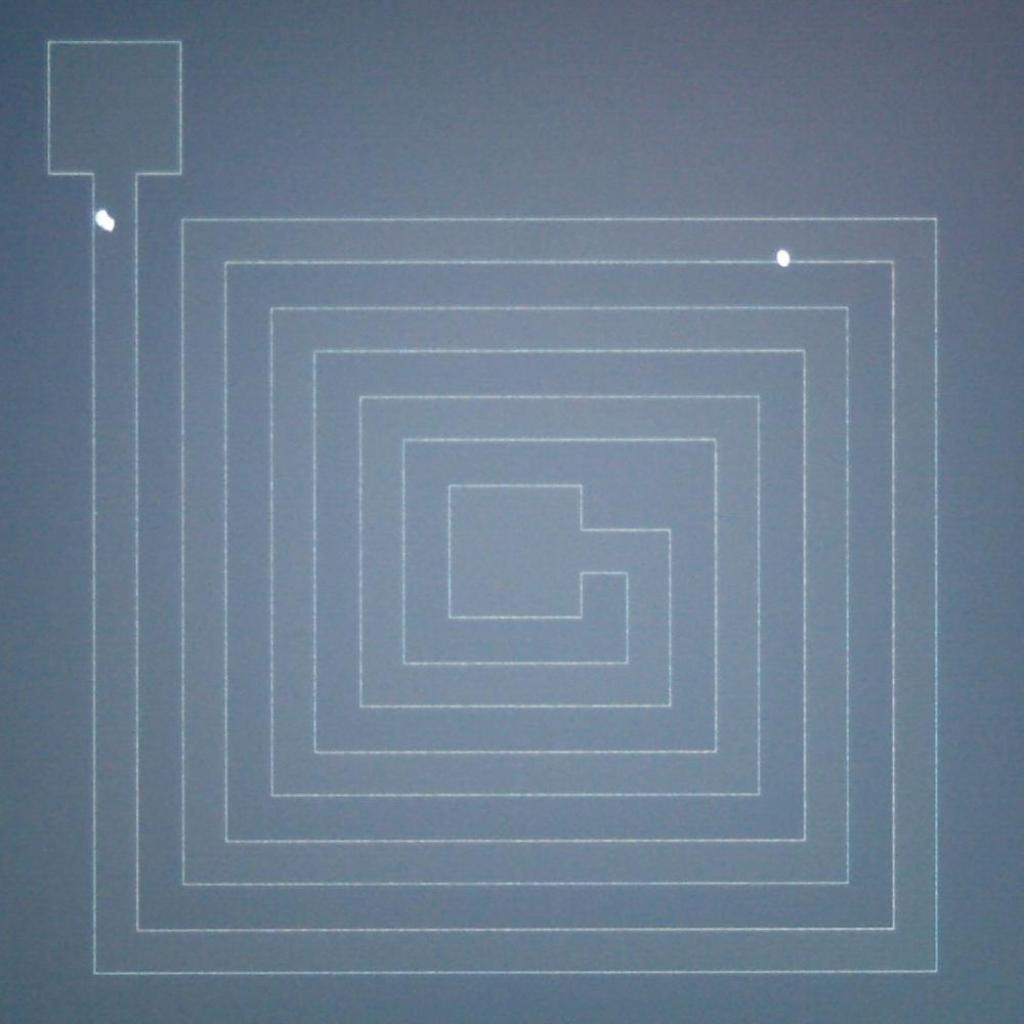spot: (85, 198, 123, 238), (764, 242, 804, 274)
